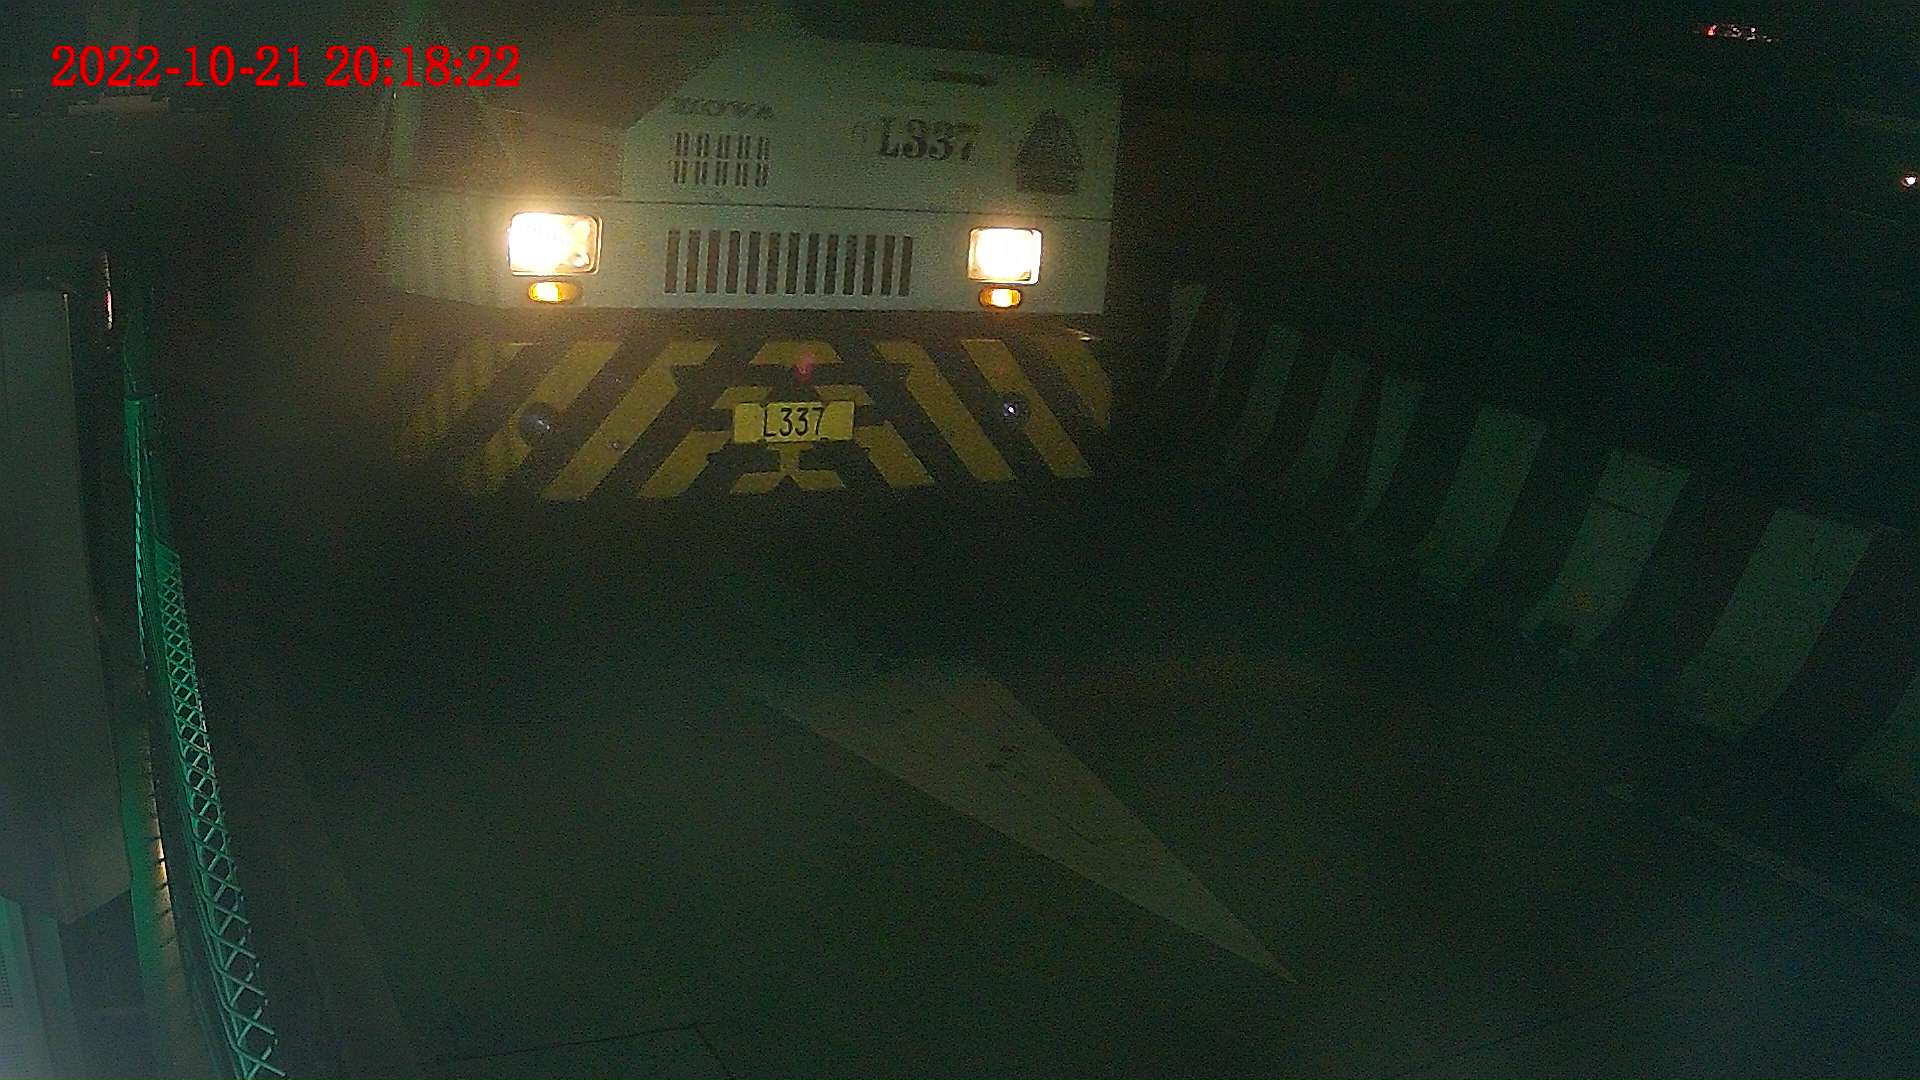head: (264, 1, 1121, 515)
plate: (734, 405, 854, 442)
